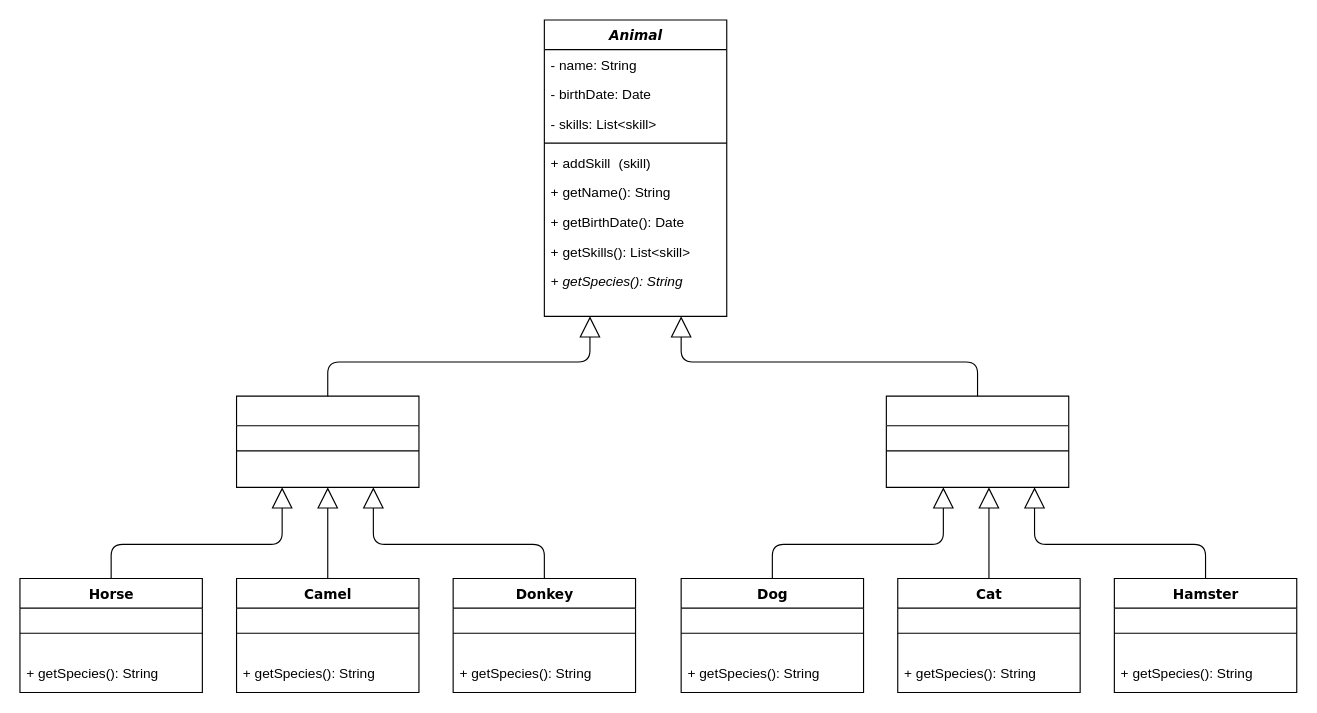
This 1317x713 diagram has some shape labels left out. The shapes that lost their labels are listed below. From the top down, each one's centre as x and y in pixels, then its label:
point (327, 441): PackAnimal
point (977, 441): Pets
